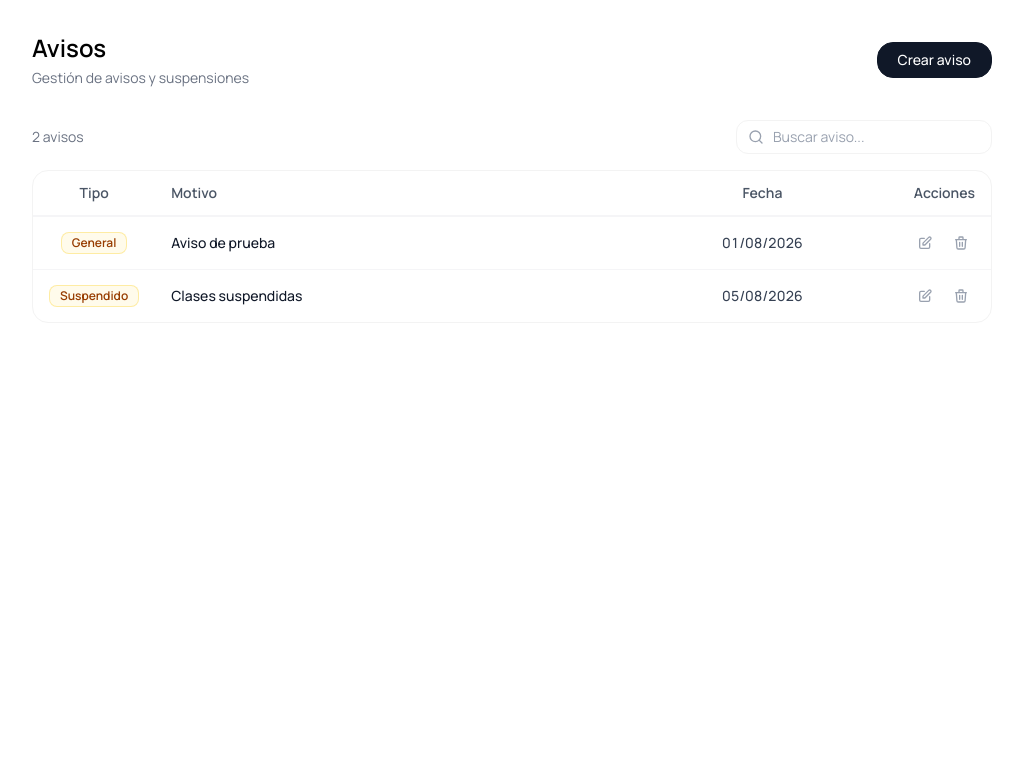
Test case: AvisosPage › abre modal de crear aviso
This screenshot has width=1024, height=768.
expect the text "Aviso de prueba" is shown: met, box [171,233,275,252]
Click the button "Crear aviso".
click(934, 60)  # box [876,42,992,78]
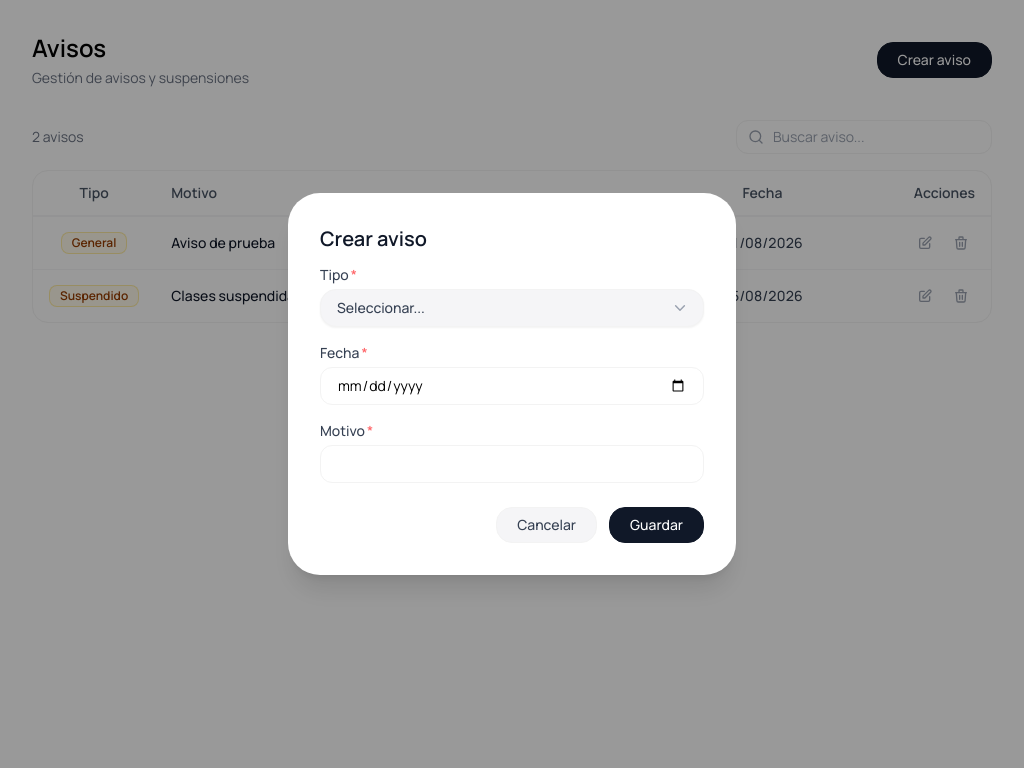
expect the heading "Crear aviso" is shown: met, box [320,225,427,252]
